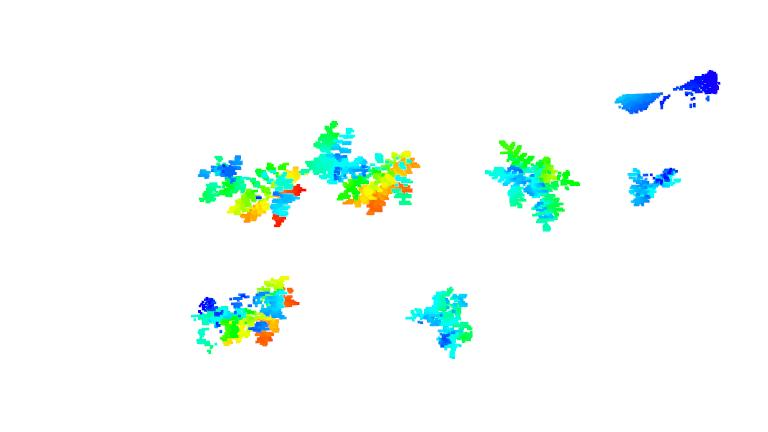chickpea: (300, 121, 421, 216), (481, 139, 582, 233), (189, 274, 303, 357), (194, 152, 310, 227), (404, 286, 479, 362), (622, 163, 683, 210)
